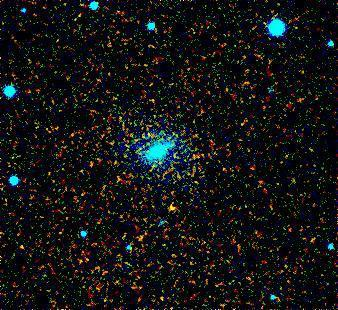star: (162, 200, 192, 230)
